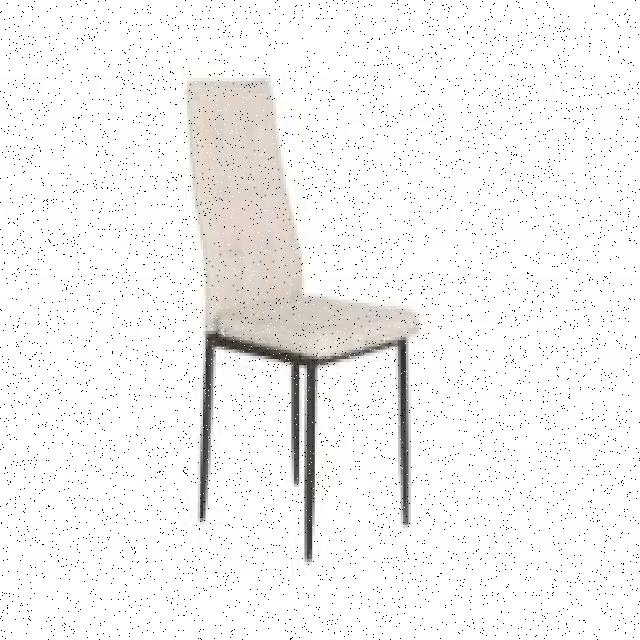bottle: (186, 75, 422, 560)
